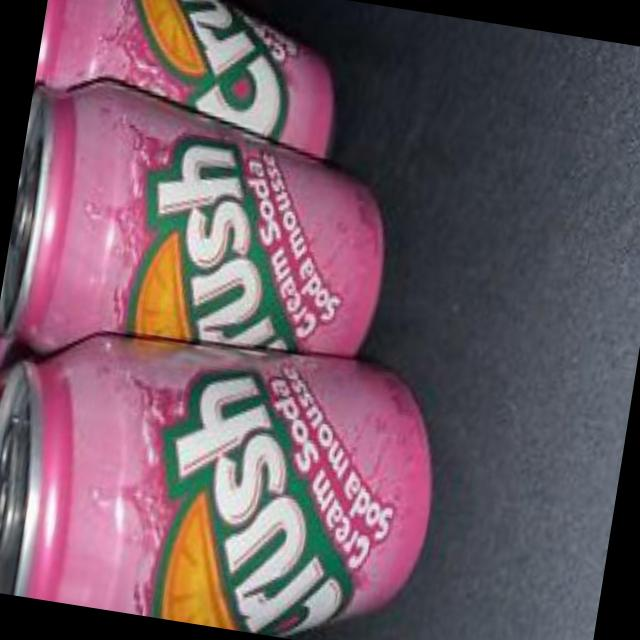metal: (0, 335, 429, 637), (0, 83, 382, 355), (31, 0, 330, 157)
